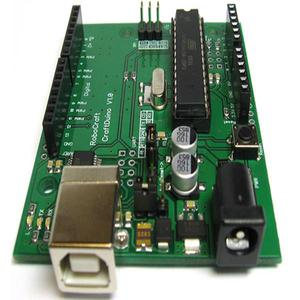duino: (16, 0, 286, 300)
